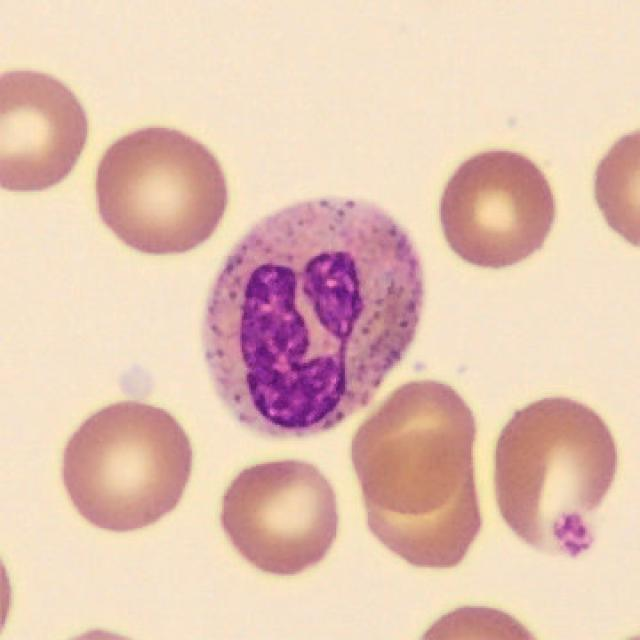Neutrofilo segmentado: (201, 197, 427, 437)
